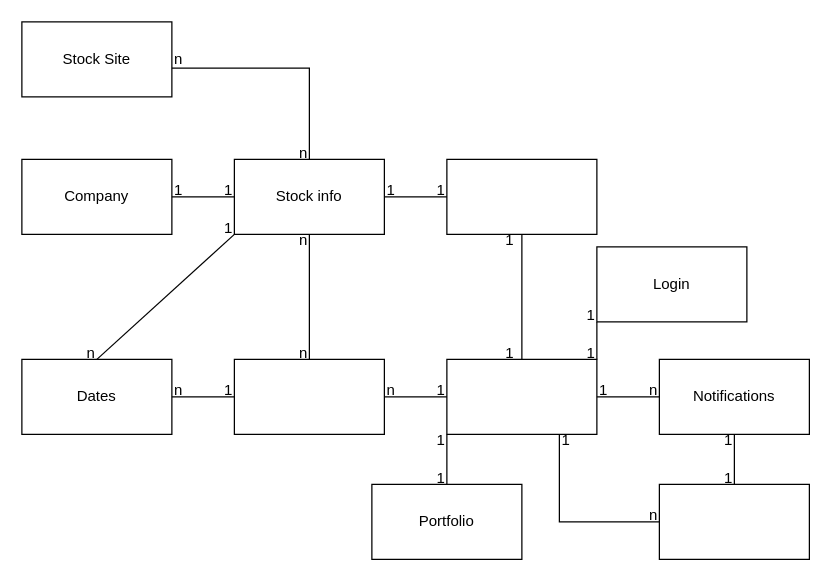
The diagram is 831 pixels wide and 581 high, and some of its shapes have lost their labels. Each missing label, with the centre of its shape:
"Customer" belongs at (521,396).
"Graph" belongs at (308,396).
"Price" belongs at (521,196).
"Watchlist" belongs at (733,521).
